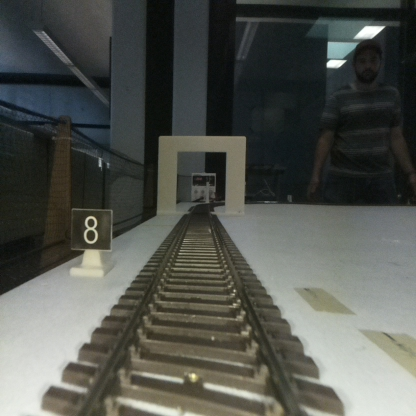black-stop-8: (71, 210, 111, 271)
